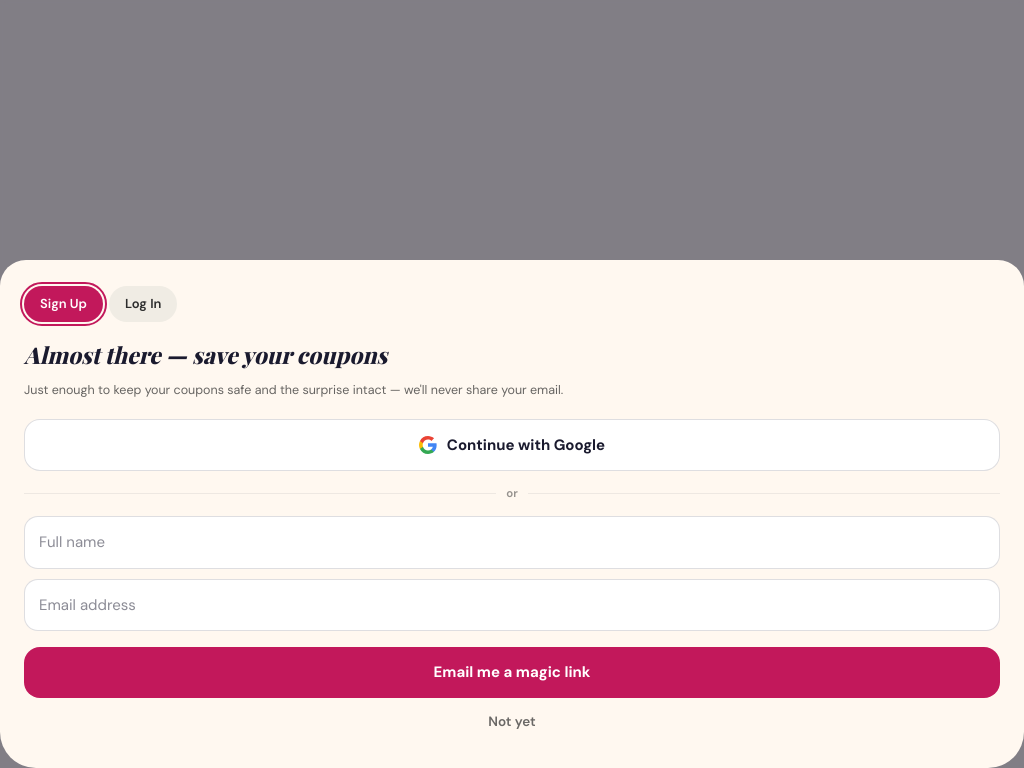
Scenario: AuthGate › requires an email before submitting
The width and height of the screenshot is (1024, 768).
What coordinates should you click on to do the following:
click the button "Email me a magic link"
I would click on:
 (512, 673)
Its box is 24,647 -> 1000,698.
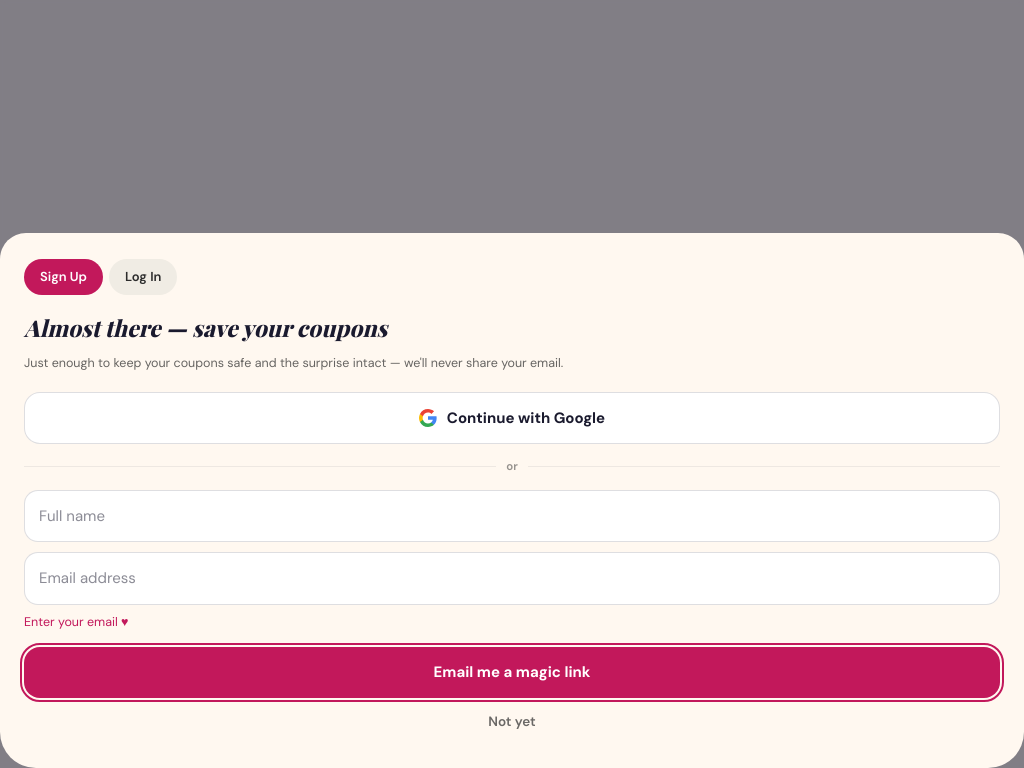
expect the text "Enter your email ♥" is shown: met, box 24,614 -> 128,630
